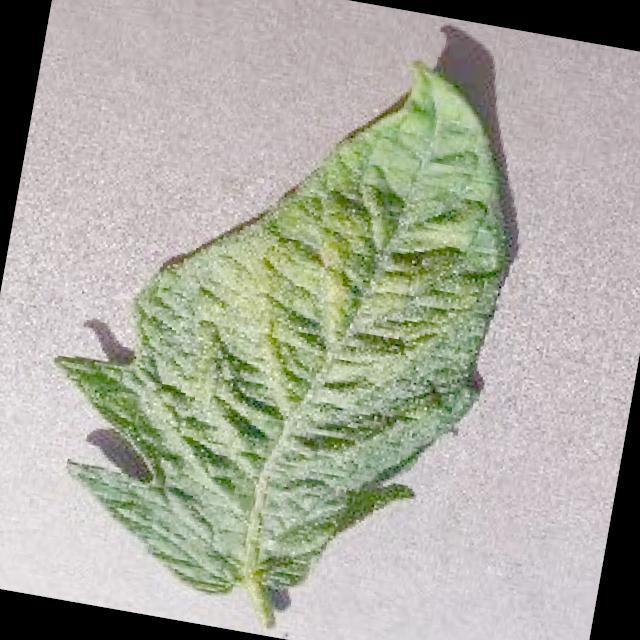Tomato spider mites leaf: (21, 7, 536, 634)
